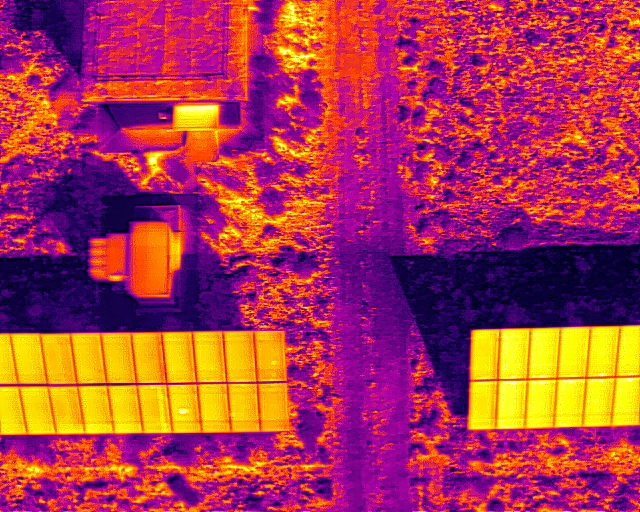photovoltaic_panels: (2, 328, 291, 438), (466, 323, 639, 430)
single_spot: (252, 330, 287, 384), (170, 381, 203, 434)
stripe_spot: (135, 382, 169, 434)
